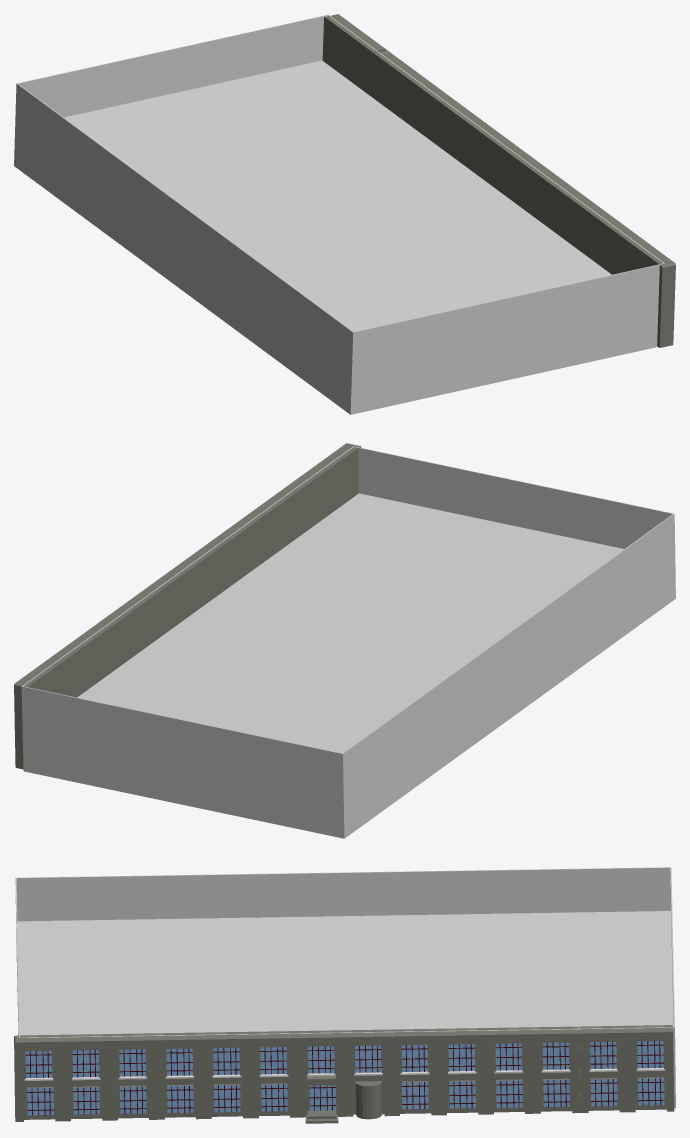
The model's file is nouveau_bloc.glb.
3 renders of one model, top to bottom at view 1: azimuth 30°, elevation 25°; view 2: azimuth 150°, elevation 25°; view 3: azimuth 270°, elevation 25°, orthographic. The views are drawn at different scales.
Parts seen in each view (by area): view 1: sol.3_1, bloc3, windaws.3; view 2: bloc3, sol.3_1, windaws.3; view 3: sol.3_1, windaws.3, bloc3.
Part boxes in pixels (x1,y1,x2,y2): sol.3_1: (64, 60, 611, 331); bloc3: (14, 14, 664, 414); windaws.3: (322, 14, 675, 347); bloc3: (21, 446, 675, 838); sol.3_1: (77, 493, 623, 753); windaws.3: (14, 443, 361, 769); sol.3_1: (17, 911, 673, 1035); windaws.3: (14, 1025, 674, 1123); bloc3: (15, 867, 675, 1108).
Bounding box in the file's own units: 49.18 × 13.82 × 84.36.
